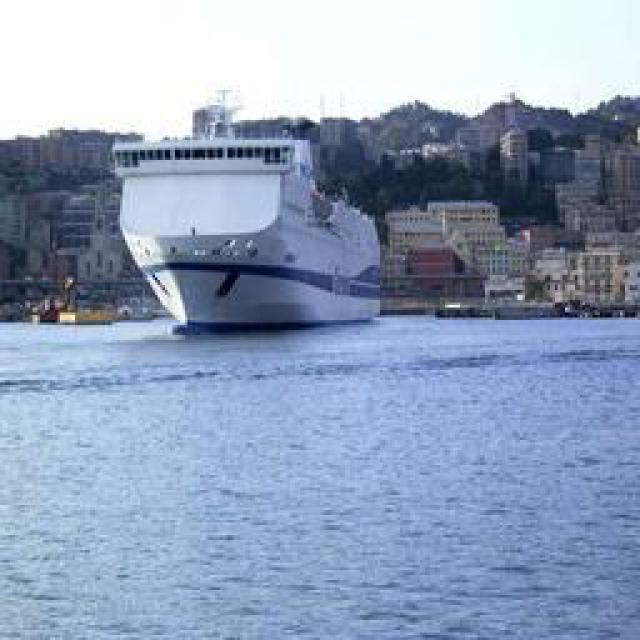Ship: (115, 125, 385, 330)
